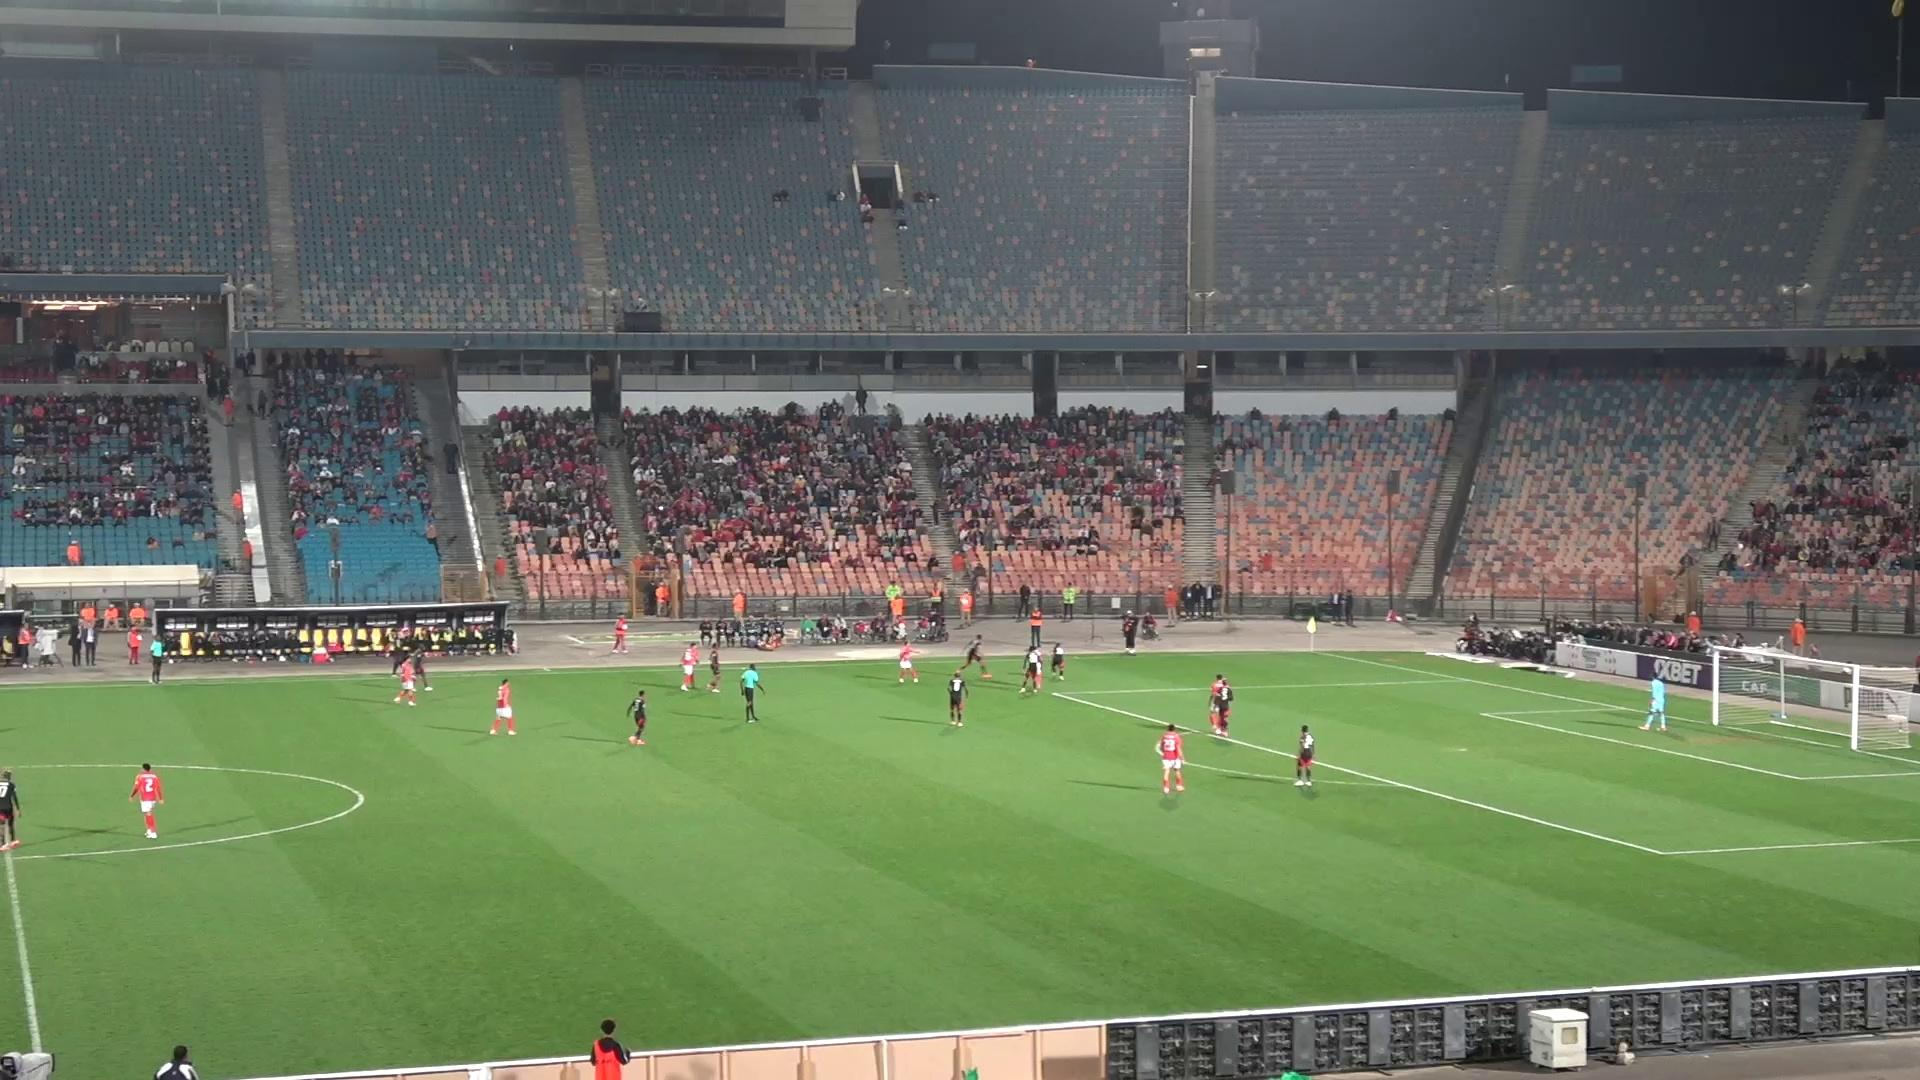GK2: (1638, 675, 1668, 731)
Refree: (738, 665, 762, 723)
Team1: (131, 765, 164, 839), (1156, 724, 1185, 794), (393, 650, 423, 704), (491, 678, 516, 735), (1209, 674, 1229, 736), (680, 644, 699, 691), (899, 641, 918, 680)
Team2: (0, 767, 20, 851), (956, 634, 990, 676), (1211, 675, 1234, 736), (1294, 725, 1316, 787), (626, 688, 647, 745), (947, 669, 967, 727), (1021, 644, 1043, 694), (705, 640, 721, 692), (1048, 644, 1065, 679)
